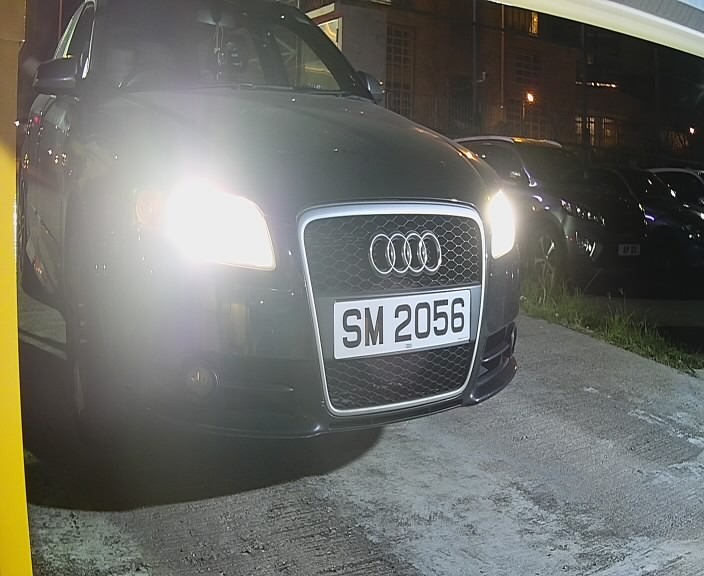Car: (2, 2, 536, 463)
License Plate: (324, 284, 477, 368)
